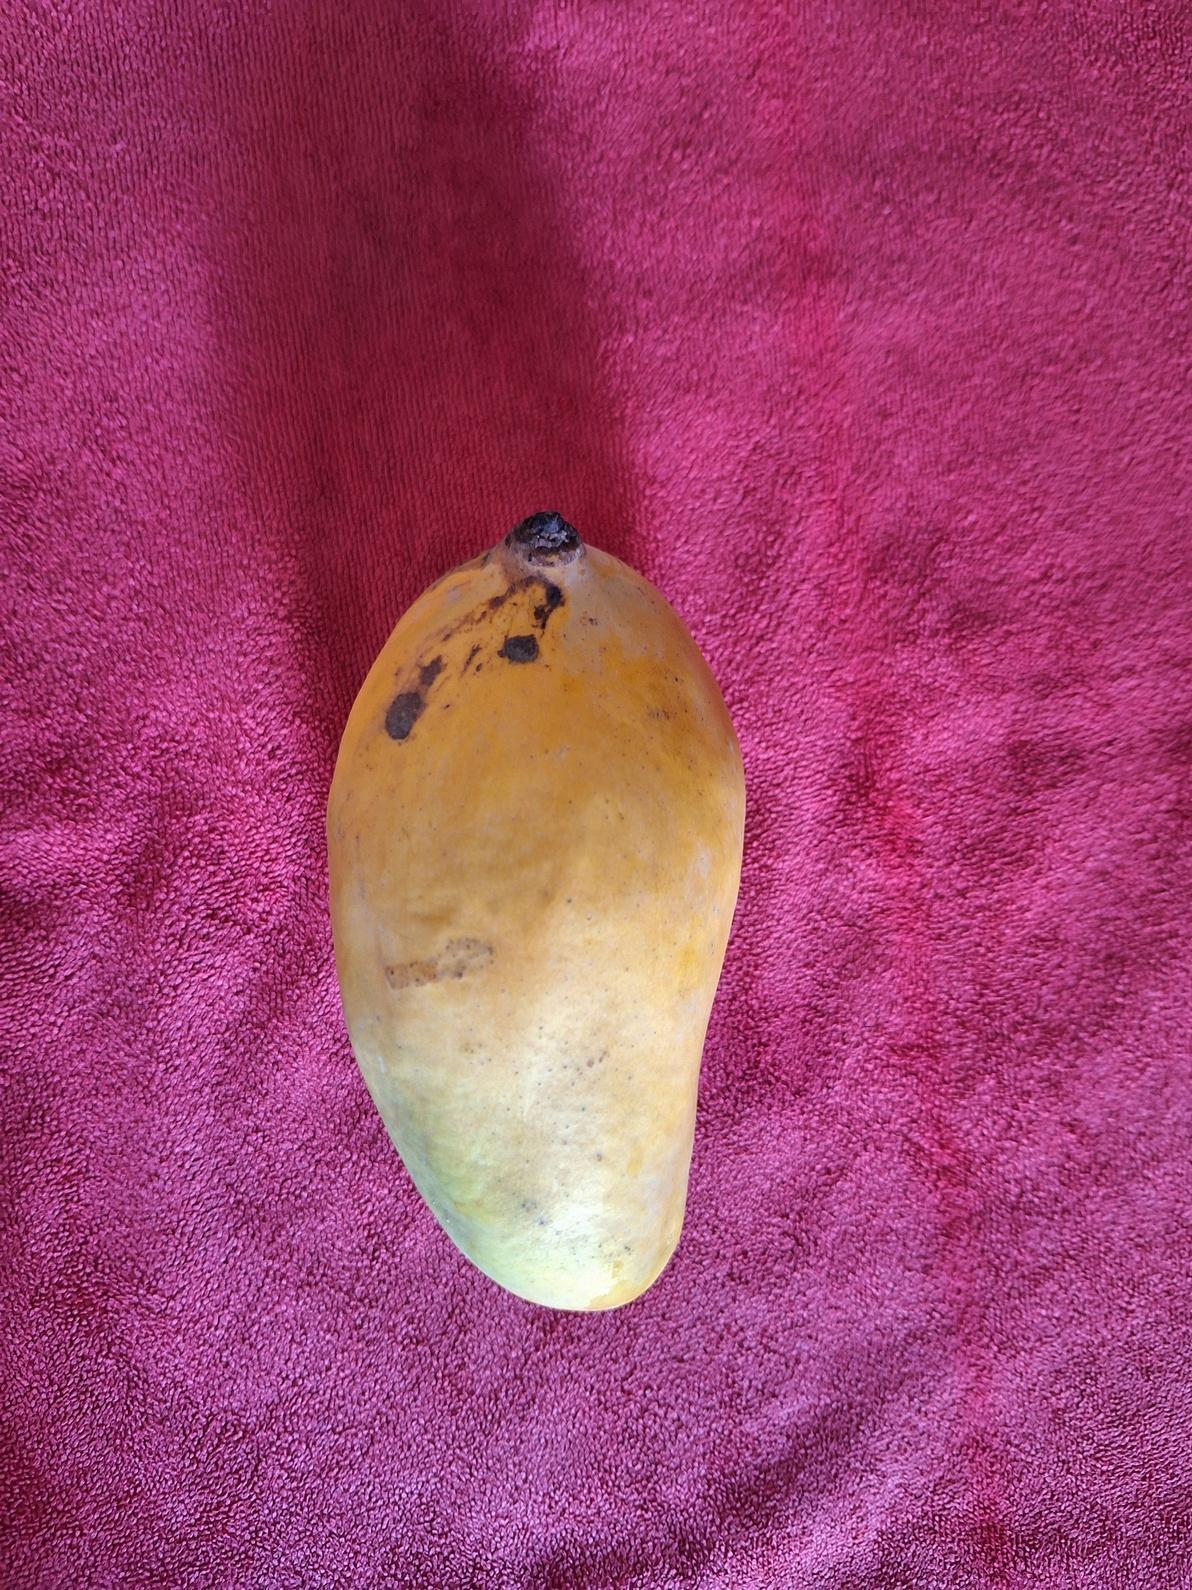mango: (324, 510, 748, 1312)
